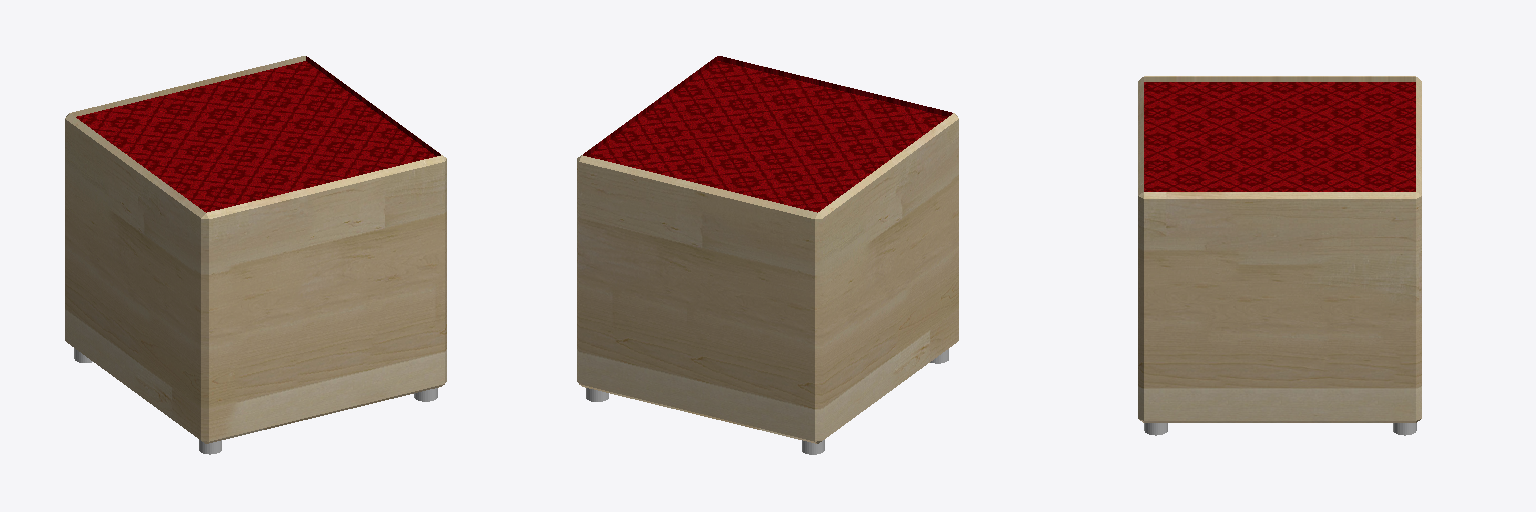
The picture shows the model from 3 angles: view 1: azimuth 30°, elevation 25°; view 2: azimuth 150°, elevation 25°; view 3: azimuth 270°, elevation 25°; orthographic projection.
Visible parts, largest first — view 1: Tu_to_Cube.001, chan_Cylinder; view 2: Tu_to_Cube.001, chan_Cylinder; view 3: Tu_to_Cube.001, chan_Cylinder.
Boxes of the visible parts, <box> form: Tu_to_Cube.001: <box>65,56,446,443</box>; chan_Cylinder: <box>74,348,437,454</box>; Tu_to_Cube.001: <box>577,56,958,443</box>; chan_Cylinder: <box>586,349,948,454</box>; Tu_to_Cube.001: <box>1138,76,1421,422</box>; chan_Cylinder: <box>1144,423,1416,435</box>.
Bounding box in the file's own units: 1 × 0.948 × 1.
Materials: 3 (2 with a texture image).